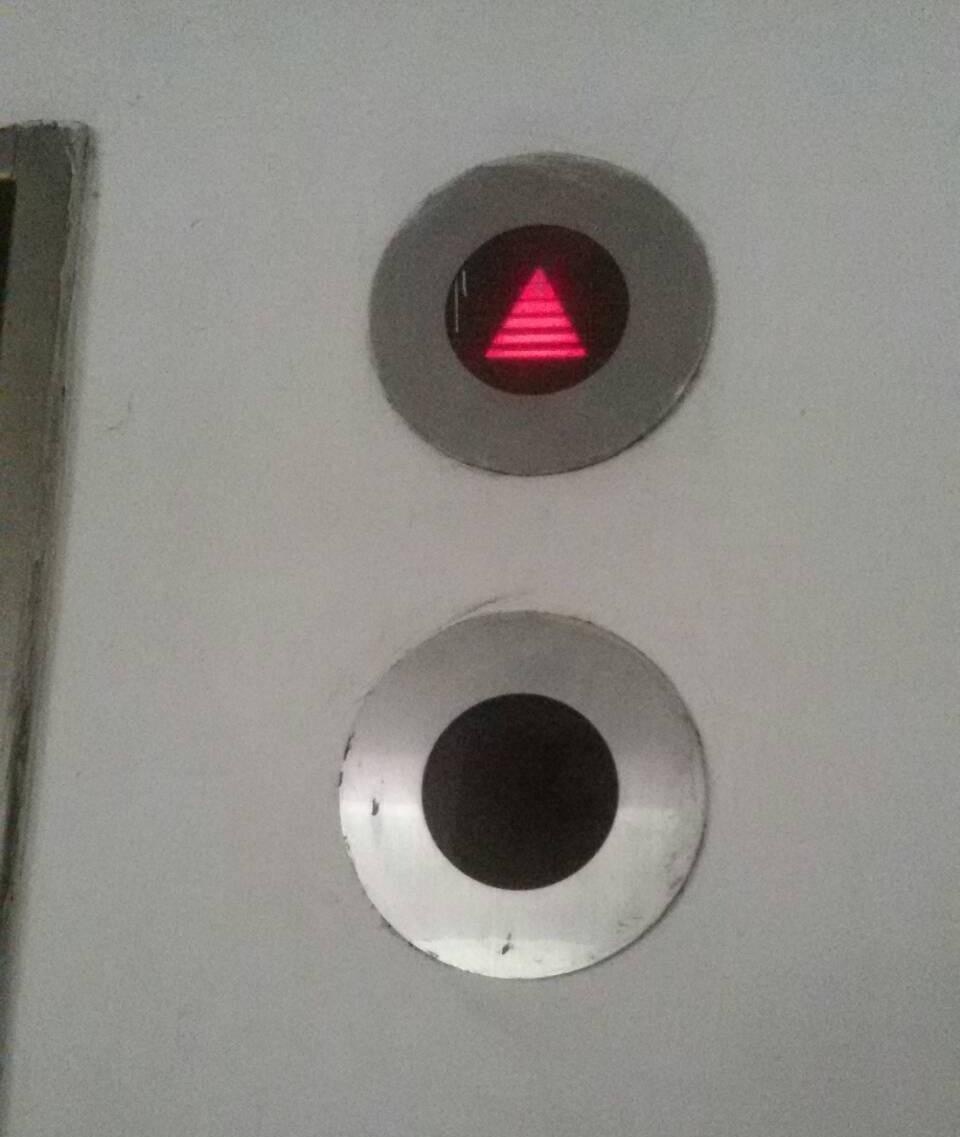empty: (332, 599, 717, 991)
up: (358, 142, 721, 486)
